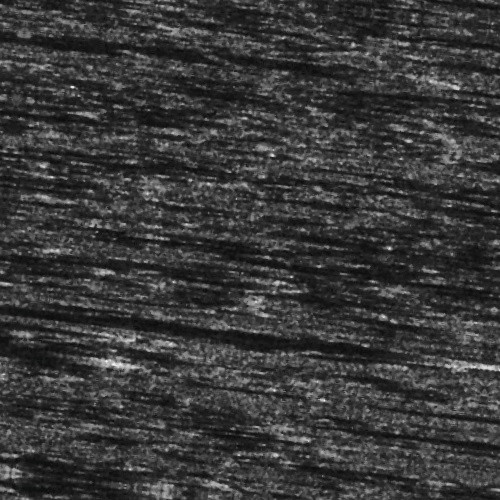object: (41, 130, 250, 149), (61, 345, 166, 356), (223, 268, 286, 281), (375, 55, 448, 66), (104, 12, 177, 19), (434, 331, 497, 338), (440, 453, 481, 460), (152, 487, 193, 494), (82, 372, 123, 375), (200, 481, 221, 486)
shadow: (37, 268, 254, 281), (69, 331, 465, 338), (0, 130, 145, 149), (286, 55, 411, 66), (0, 345, 113, 356), (304, 453, 461, 460), (0, 12, 140, 19), (43, 487, 172, 494), (41, 481, 210, 486), (383, 410, 500, 417), (424, 178, 500, 187), (450, 10, 500, 21), (400, 412, 500, 417), (411, 38, 500, 43), (426, 385, 500, 390), (0, 372, 102, 375), (491, 190, 500, 195)
